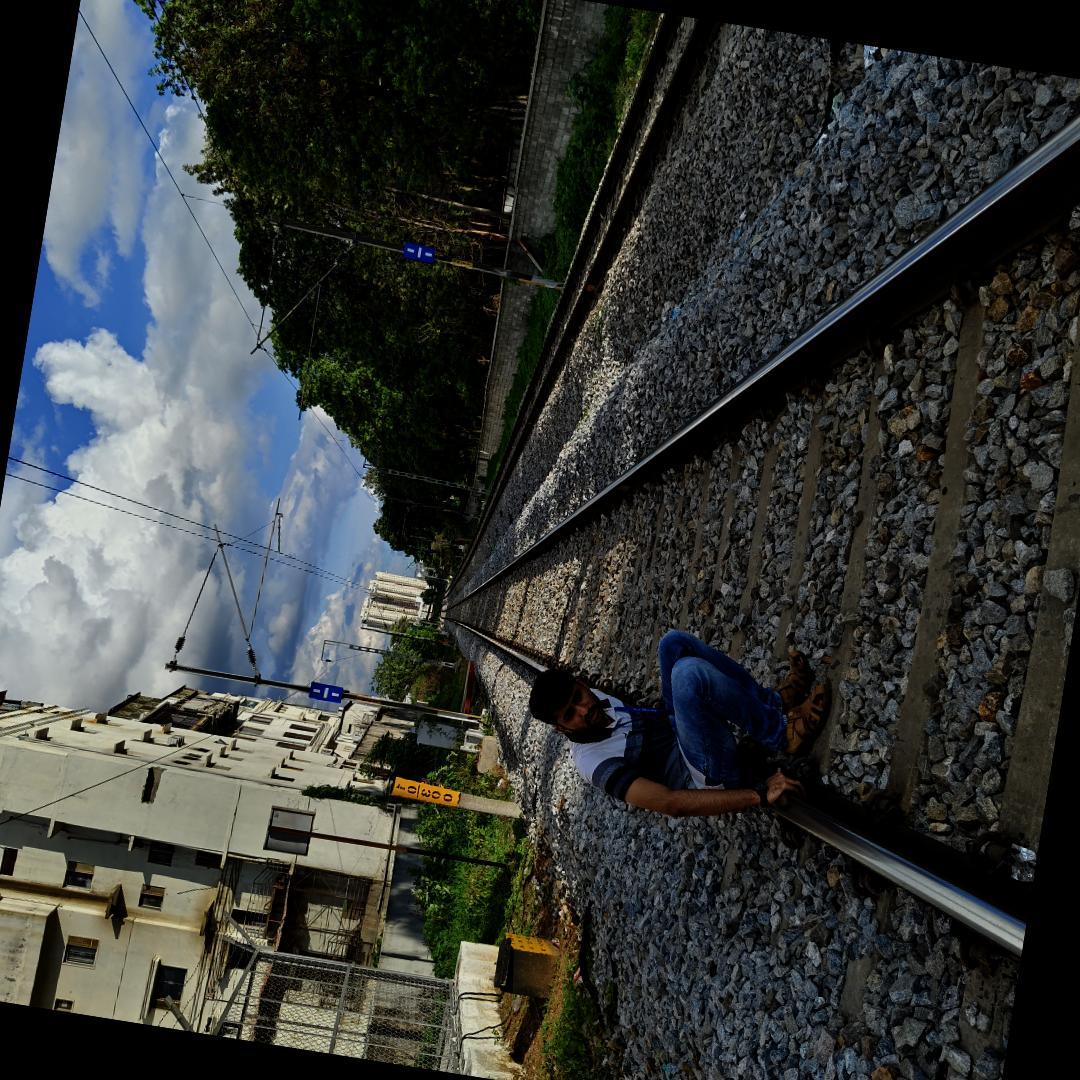sitting: (509, 605, 835, 830)
